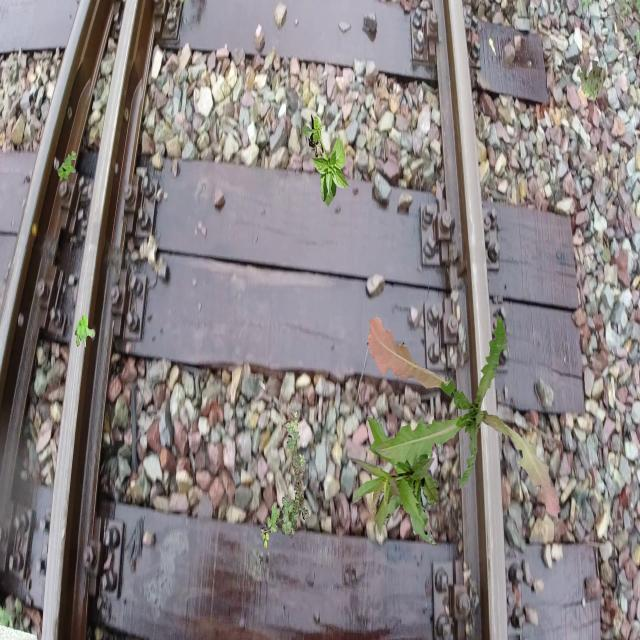Plant: (367, 315, 560, 518), (350, 416, 438, 546), (260, 410, 308, 548), (302, 112, 350, 207), (577, 60, 603, 102), (75, 314, 96, 347), (57, 151, 76, 184)
